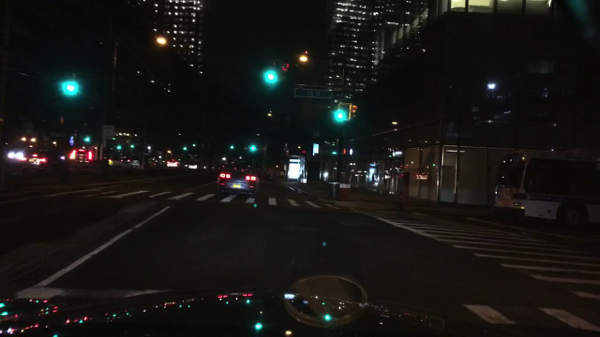bus: (491, 145, 599, 231)
car: (5, 147, 75, 185), (216, 164, 260, 199), (67, 146, 97, 165), (121, 154, 149, 168), (146, 154, 160, 167), (164, 159, 184, 168), (188, 162, 199, 169), (217, 163, 225, 169)
traffic light: (62, 72, 76, 95), (266, 58, 276, 82), (279, 59, 289, 83), (340, 147, 348, 158), (352, 104, 357, 120), (84, 138, 92, 143), (250, 147, 257, 152), (191, 144, 198, 148), (228, 146, 236, 149), (117, 147, 123, 151), (182, 148, 189, 151), (131, 145, 136, 149)
traffic sign: (294, 87, 335, 100), (103, 125, 117, 141)
